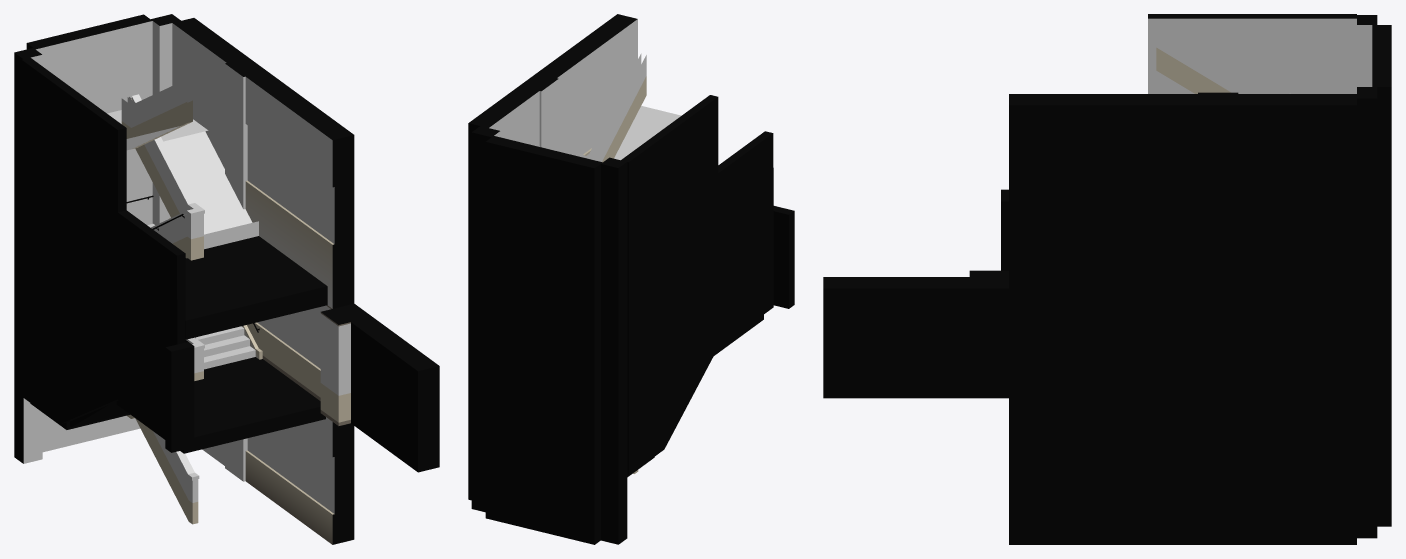
File: b01_classroom_stairs_collision_00.fbx
3 renders of one model, left to right at view 1: azimuth 30°, elevation 25°; view 2: azimuth 150°, elevation 25°; view 3: azimuth 270°, elevation 25°, orthographic. The views are drawn at different scales.
Parts seen in each view (by area): view 1: b01_classroom_stairs_collsion_00; view 2: b01_classroom_stairs_collsion_00; view 3: b01_classroom_stairs_collsion_00.
Part boxes in pixels (x1=…): b01_classroom_stairs_collsion_00: x1=14, y1=14, x2=439, y2=544; b01_classroom_stairs_collsion_00: x1=468, y1=14, x2=794, y2=544; b01_classroom_stairs_collsion_00: x1=823, y1=14, x2=1391, y2=544.
Bounding box in the file's own units: 579 × 1331 × 1405.
